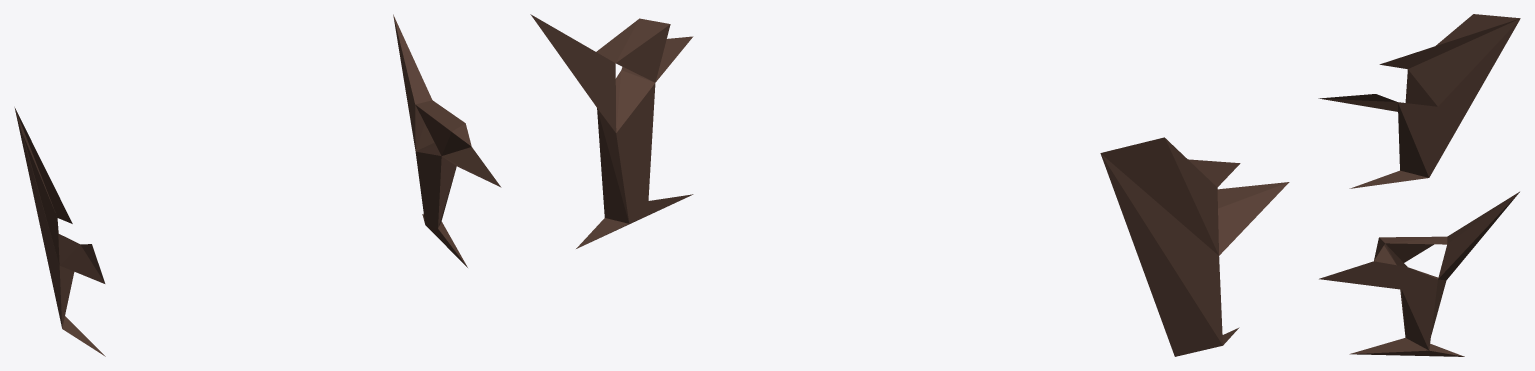
The model's file is bench-park.lod2.glb.
3 views of the same model, side by side, from view 1: azimuth 30°, elevation 25°; view 2: azimuth 150°, elevation 25°; view 3: azimuth 270°, elevation 25° (orthographic). The views are drawn at different scales.
Visible parts, largest first — view 1: Bench_Bench_0; view 2: Bench_Bench_0; view 3: Bench_Bench_0.
Part boxes in pixels (box(x1,y1,x2,y2)): Bench_Bench_0: box(14, 14, 501, 356); Bench_Bench_0: box(530, 14, 1289, 356); Bench_Bench_0: box(1318, 14, 1520, 356).
Size of the model in its own units: 1.79 by 0.7893 by 0.8479.
